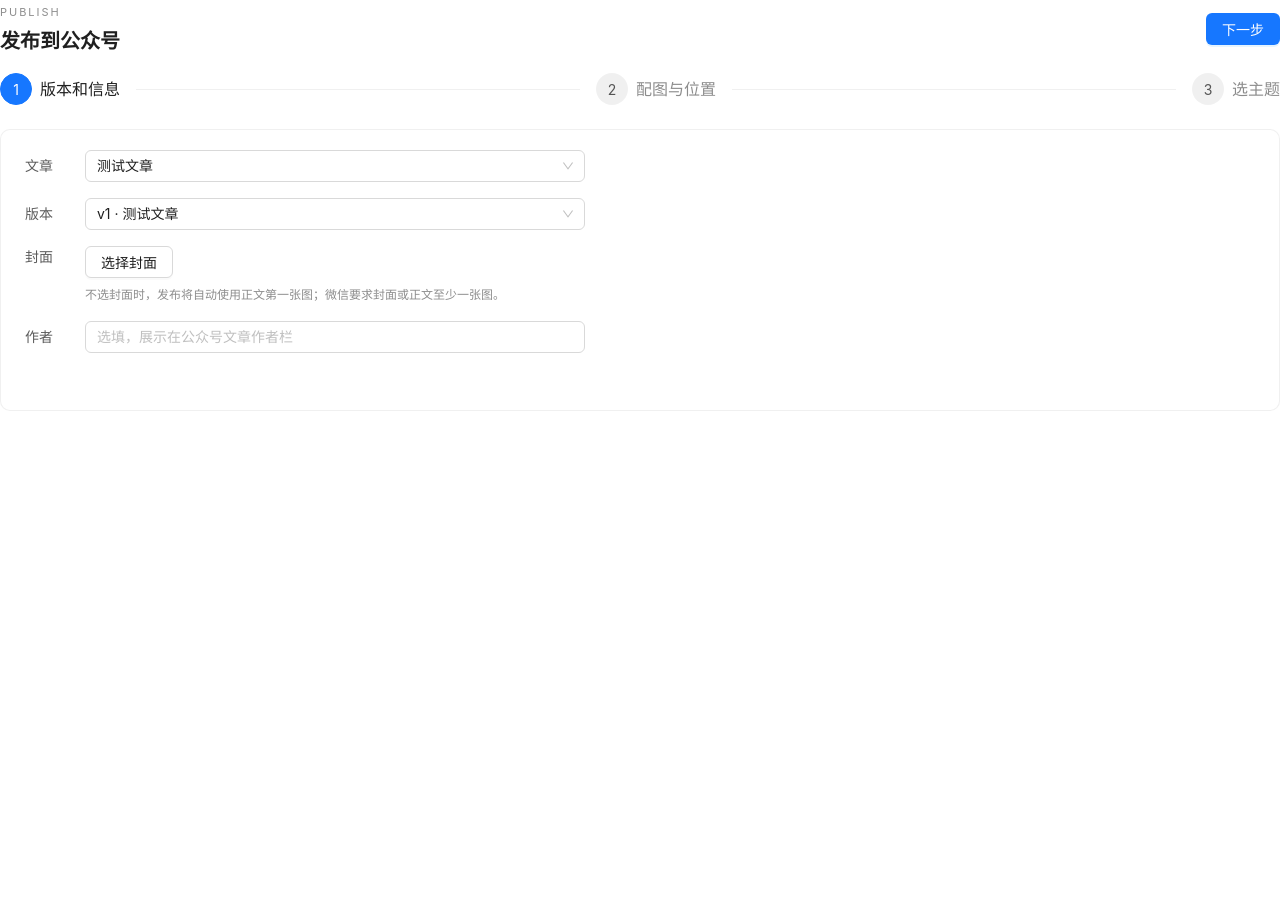
PublishPage 三步向导 › 素材库完全无图片素材时：弹窗显示空态引导
The width and height of the screenshot is (1280, 900).
Expected: the heading "发布到公众号" is shown, [0,26,120,57]
Click the button "下一步" at [1243, 29], box [1206,13,1279,45]
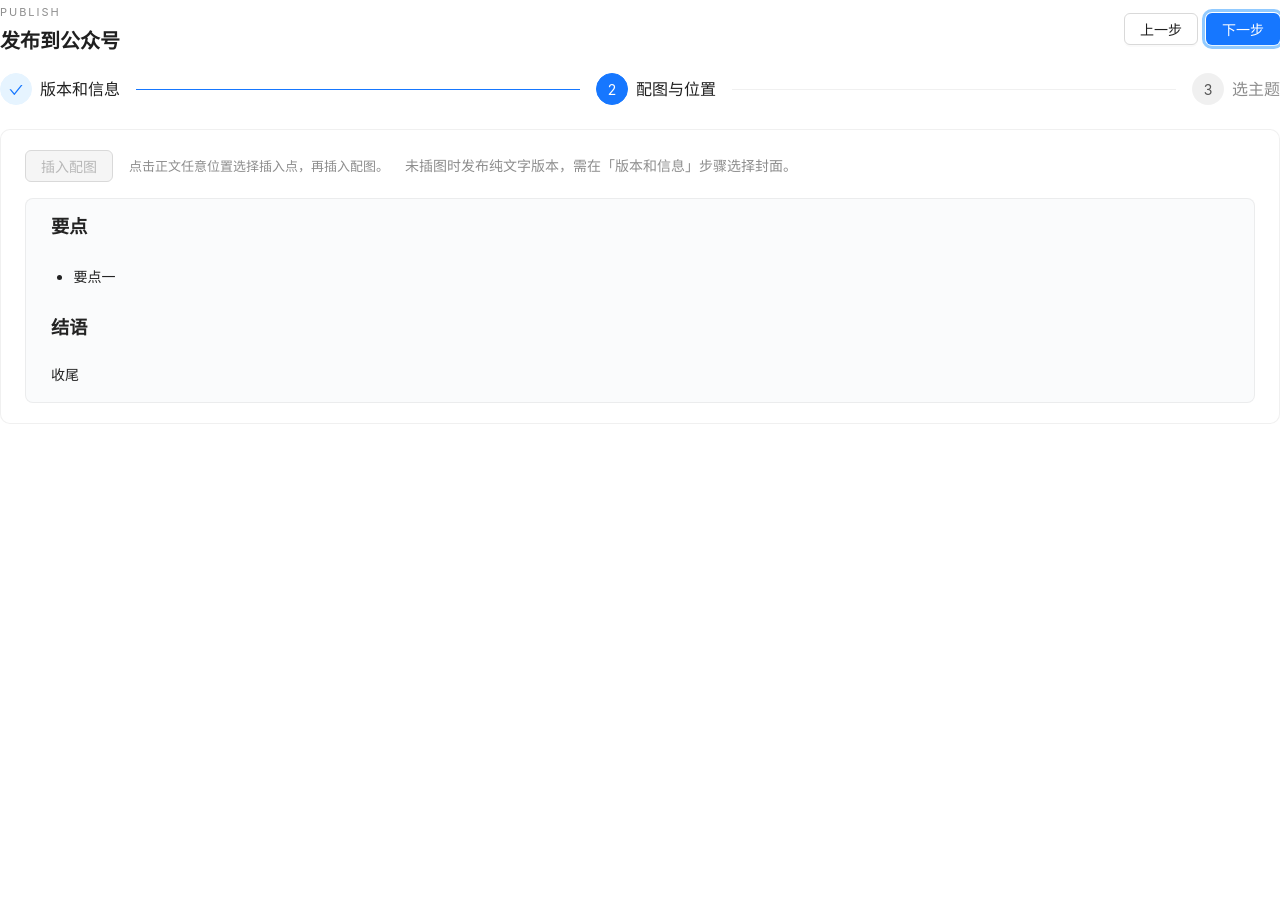
Now the element named "正文画布" is shown, box [25,198,1255,403]
Click the element showing "要点" at [69, 226], box [51,215,87,237]
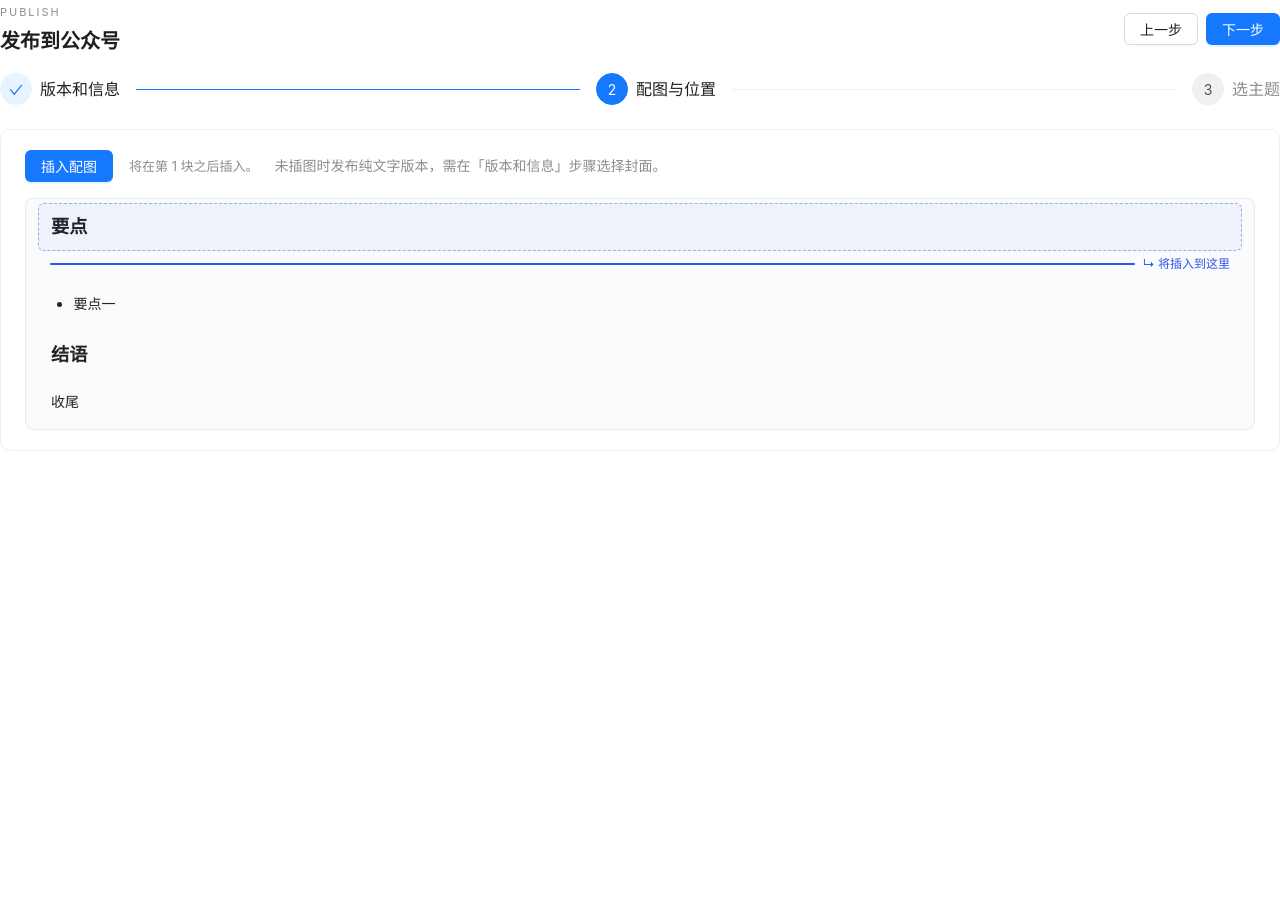
Click the button "插入配图" at [69, 166], box [25,150,113,182]
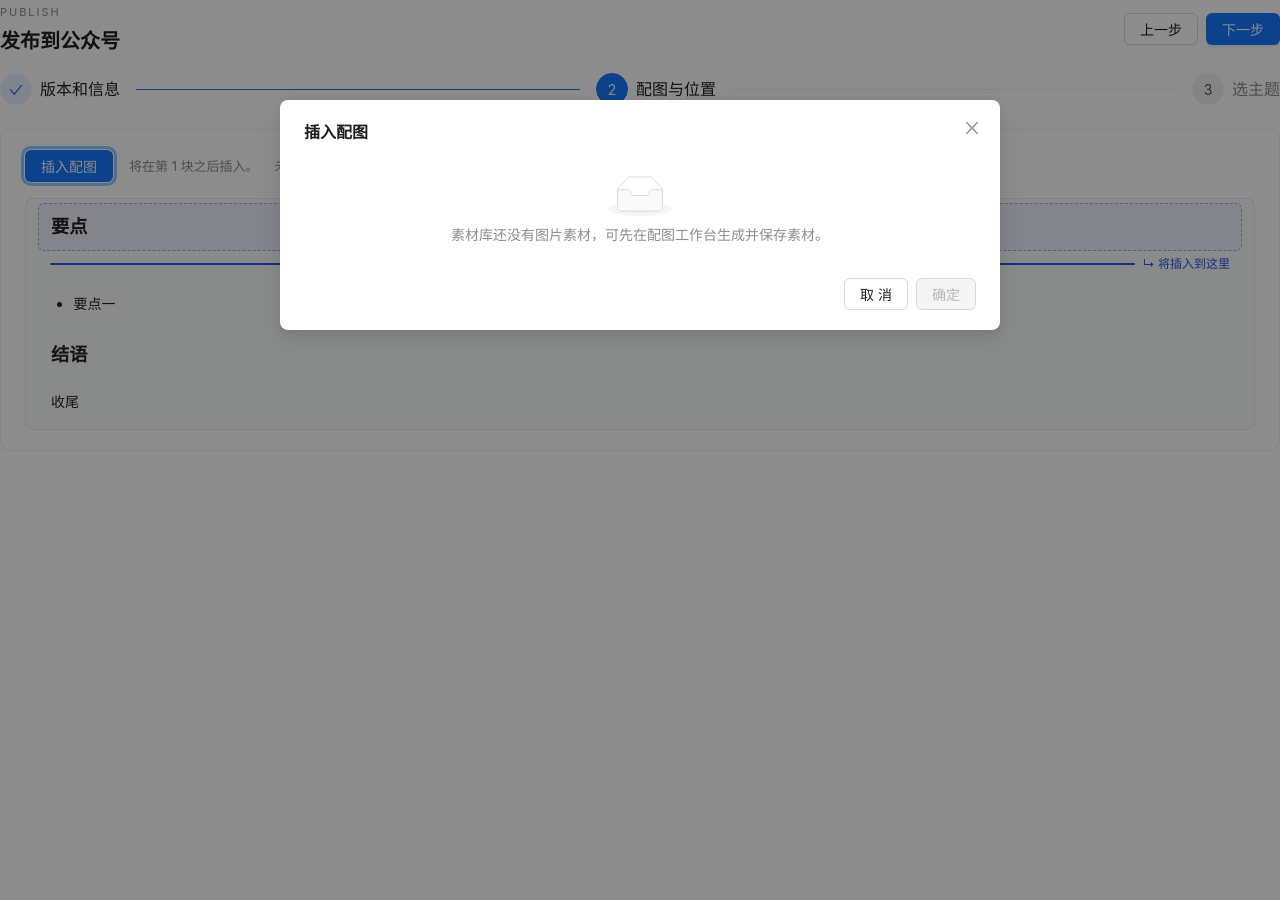
Now the text "素材库还没有图片素材，可先在配图工作台生成并保存素材。" is shown, box [451,226,829,243]
